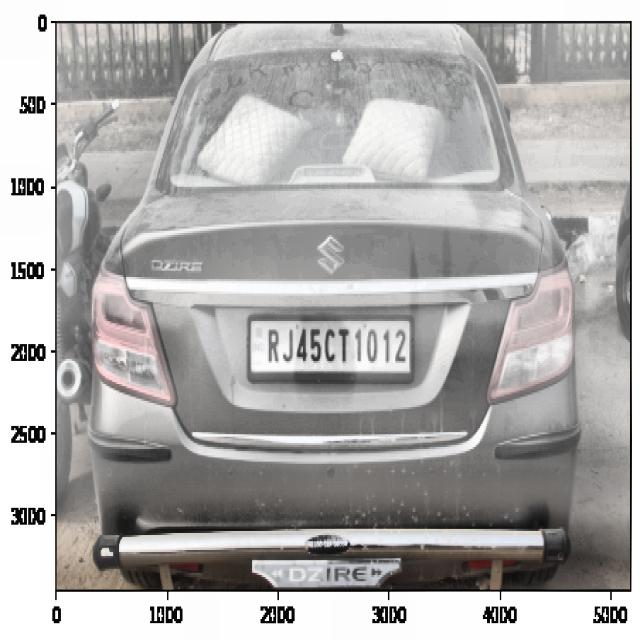license_plate: (256, 318, 412, 372)
